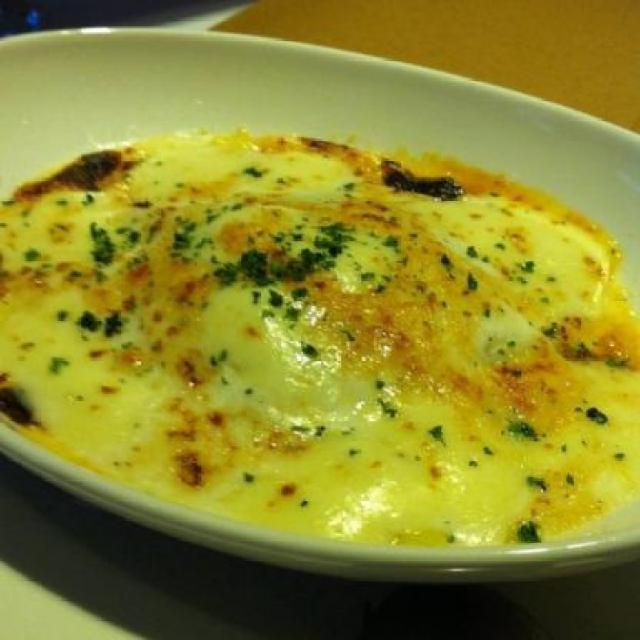Lasagna: (39, 134, 584, 497)
